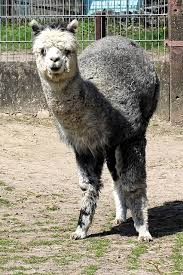alpaca: (28, 18, 161, 243)
